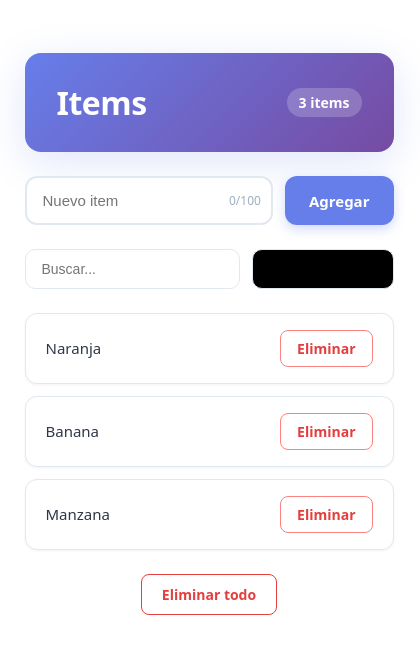
Test: Componente App › Interacción del Formulario y Validaciones › debería prevenir agregar items duplicados
This screenshot has width=420, height=669.
Expected: the text "Manzana" is shown, [46,503,110,526]
Note: Intentamos agregar 'manzana' que ya existe
In the field with placeholder "Nuevo item": (149, 201) [24,176,273,225], type "manzana"
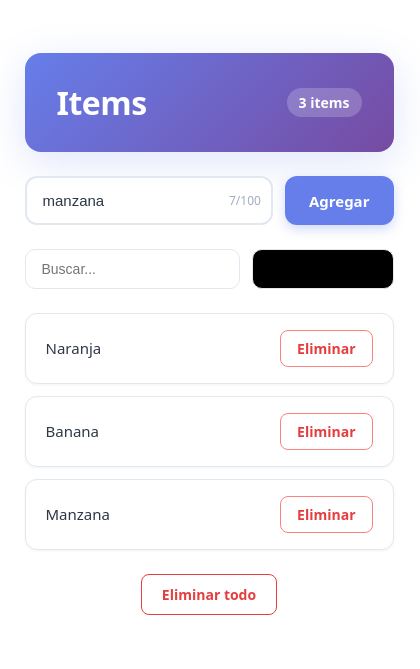
Click the button "Agregar": (339, 201) [285,176,394,225]
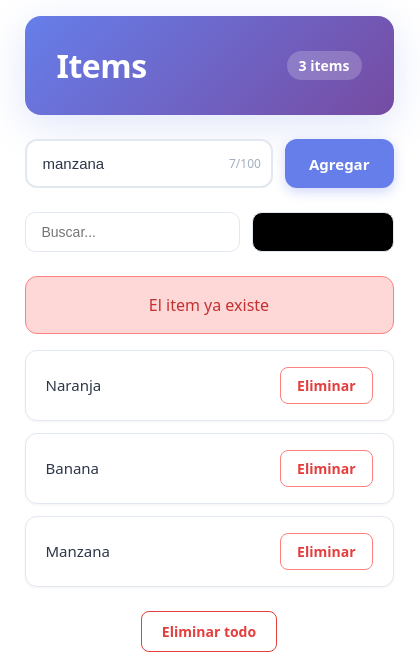
Result: the text "El item ya existe" is shown at [24,276,394,334]
